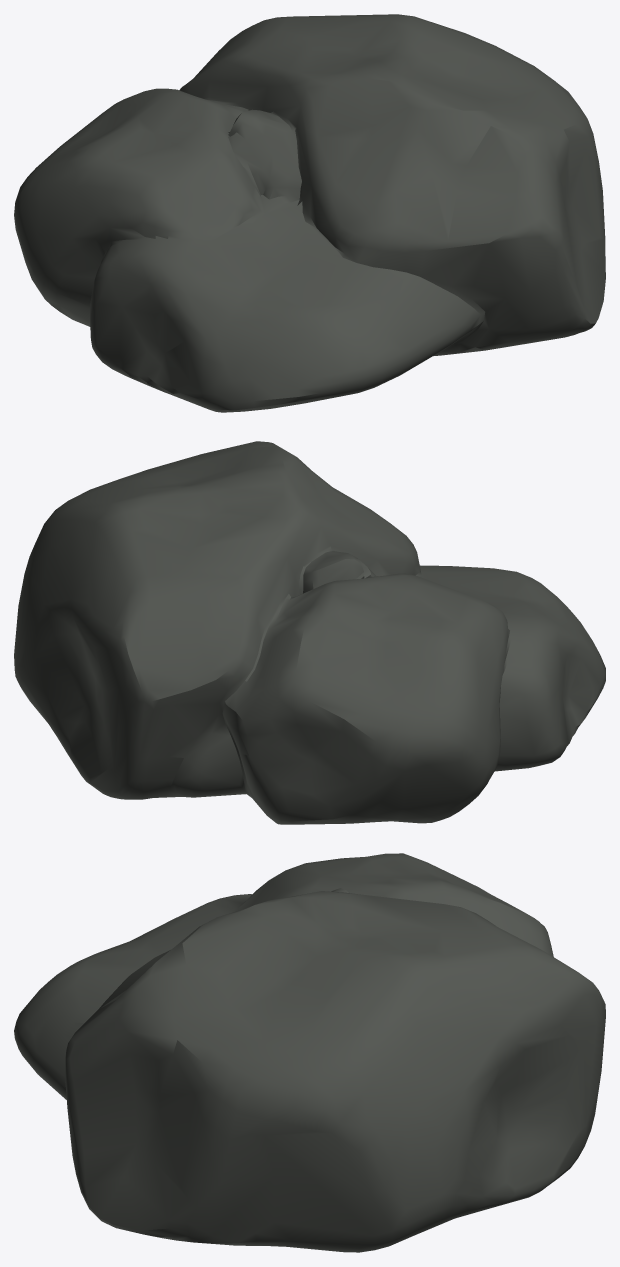
The model's file is rocks-2.glb.
3 views of the same model, one above another, from view 1: azimuth 30°, elevation 25°; view 2: azimuth 150°, elevation 25°; view 3: azimuth 270°, elevation 25° (orthographic). The views are drawn at different scales.
Visible parts, largest first — view 1: Environment_Cliff1; view 2: Environment_Cliff1; view 3: Environment_Cliff1.
Part boxes in pixels (<box>): Environment_Cliff1: <box>14,14,605,412</box>; Environment_Cliff1: <box>14,441,605,824</box>; Environment_Cliff1: <box>14,853,605,1252</box>.
Size of the model in its own units: 5.62 by 2.96 by 5.41.
1 material, 1 textured.
